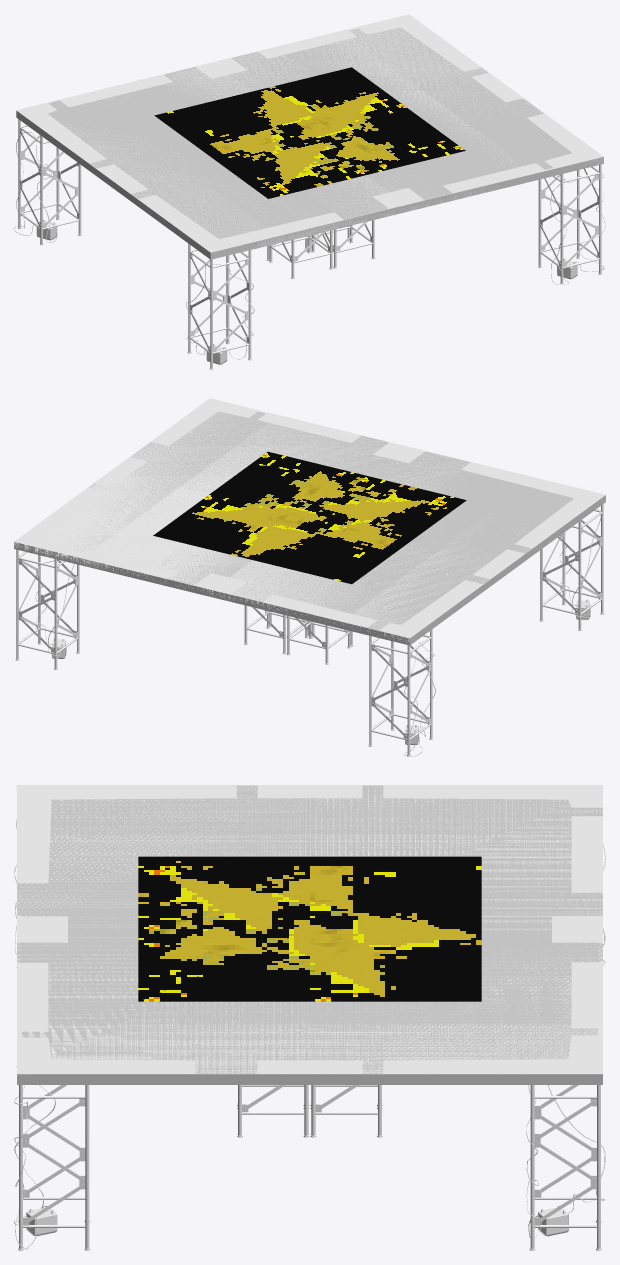
File: objects_un_base_stage01.gltf
3 views of the same model, one above another, from view 1: azimuth 30°, elevation 25°; view 2: azimuth 150°, elevation 25°; view 3: azimuth 270°, elevation 25° (orthographic). The views are drawn at different scales.
Visible parts, largest first — view 1: um_objects_un_base_stage01_model_lod0Shape:objects_un_base_s (×5), um_objects_un_base_stage01_model_lod1Shape:objects_un_base_s (×2), um_objects_un_base_stage01_model_lod2Shape:objects_un_base_s, um_objects_un_base_stage01_model_lod0Shape:objects_un_base_l, um_objects_un_base_stage01_model_lod0Shape:objects_un_base_b; view 2: um_objects_un_base_stage01_model_lod0Shape:objects_un_base_s (×5), um_objects_un_base_stage01_model_lod1Shape:objects_un_base_s (×2), um_objects_un_base_stage01_model_lod2Shape:objects_un_base_s, um_objects_un_base_stage01_model_lod0Shape:objects_un_base_l, um_objects_un_base_stage01_model_lod0Shape:objects_un_base_b; view 3: um_objects_un_base_stage01_model_lod0Shape:objects_un_base_s (×5), um_objects_un_base_stage01_model_lod1Shape:objects_un_base_s (×2), um_objects_un_base_stage01_model_lod2Shape:objects_un_base_s, um_objects_un_base_stage01_model_lod0Shape:objects_un_base_b, um_objects_un_base_stage01_model_lod0Shape:objects_un_base_l.
Part boxes in pixels (<box>): um_objects_un_base_stage01_model_lod0Shape:objects_un_base_s (×5): <box>16,15,603,369</box>; um_objects_un_base_stage01_model_lod1Shape:objects_un_base_s (×2): <box>16,14,603,252</box>; um_objects_un_base_stage01_model_lod2Shape:objects_un_base_s: <box>18,52,603,259</box>; um_objects_un_base_stage01_model_lod0Shape:objects_un_base_l: <box>14,131,605,359</box>; um_objects_un_base_stage01_model_lod0Shape:objects_un_base_b: <box>36,220,577,364</box>; um_objects_un_base_stage01_model_lod0Shape:objects_un_base_s (×5): <box>14,399,605,756</box>; um_objects_un_base_stage01_model_lod1Shape:objects_un_base_s (×2): <box>14,398,605,637</box>; um_objects_un_base_stage01_model_lod2Shape:objects_un_base_s: <box>17,439,605,643</box>; um_objects_un_base_stage01_model_lod0Shape:objects_un_base_l: <box>35,508,600,756</box>; um_objects_un_base_stage01_model_lod0Shape:objects_un_base_b: <box>52,599,589,744</box>; um_objects_un_base_stage01_model_lod0Shape:objects_un_base_s (×5): <box>17,785,602,1250</box>; um_objects_un_base_stage01_model_lod1Shape:objects_un_base_s (×2): <box>16,785,602,1073</box>; um_objects_un_base_stage01_model_lod2Shape:objects_un_base_s: <box>17,785,602,1074</box>; um_objects_un_base_stage01_model_lod0Shape:objects_un_base_b: <box>26,1206,568,1236</box>; um_objects_un_base_stage01_model_lod0Shape:objects_un_base_l: <box>14,820,605,1249</box>.
Bounding box in the file's own units: 17.84 × 5.02 × 15.16.
8 materials, 1 textured.
